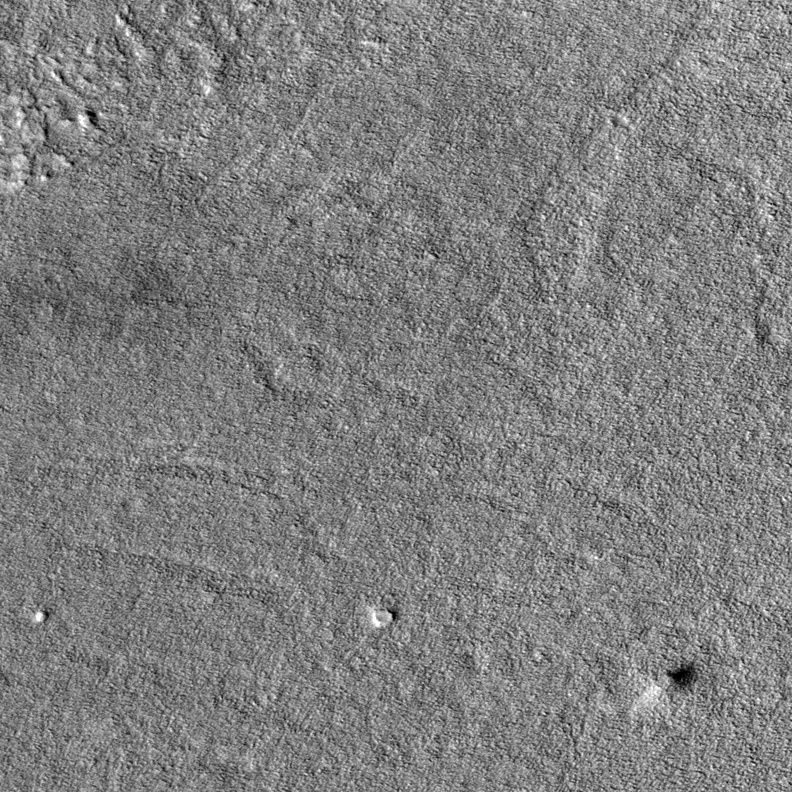dust_devil: (629, 660, 700, 717)
